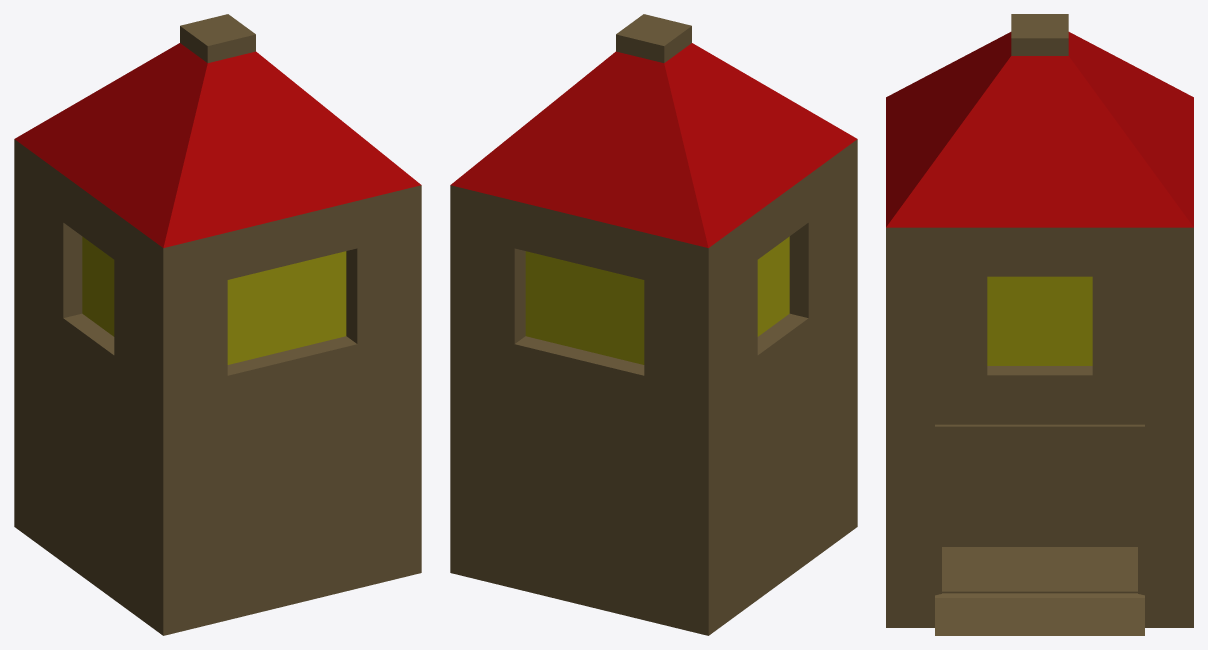
Rendered from WatchTower.obj.
3 renders of one model, left to right at view 1: azimuth 30°, elevation 25°; view 2: azimuth 150°, elevation 25°; view 3: azimuth 270°, elevation 25°, orthographic. The views are drawn at different scales.
Visible parts, largest first — view 1: Cube; view 2: Cube; view 3: Cube.
Part boxes in pixels (left/top/right/bottom): Cube: left=14, top=14, right=421, bottom=635; Cube: left=450, top=14, right=857, bottom=635; Cube: left=886, top=14, right=1193, bottom=635.
Size of the model in its own units: 3.61 by 6.41 by 3.33.
